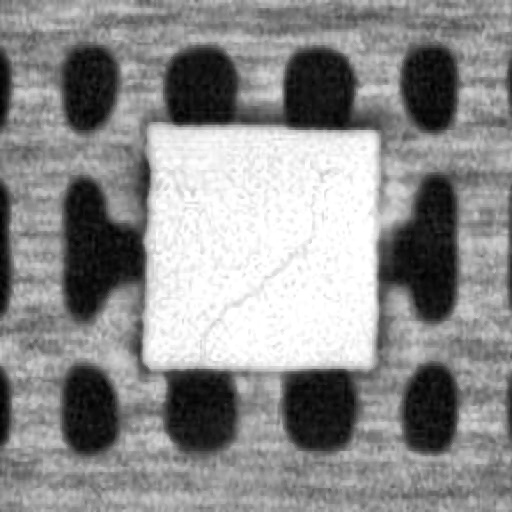DIE_CRACK: (193, 241, 305, 337)
